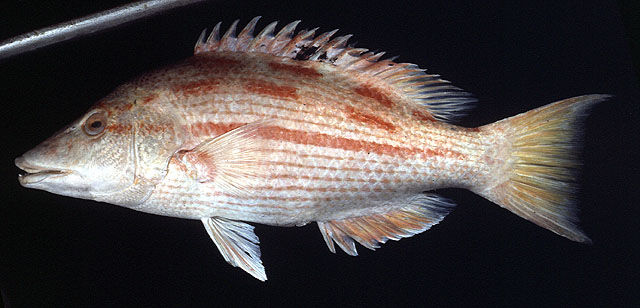fish: (16, 17, 610, 285)
